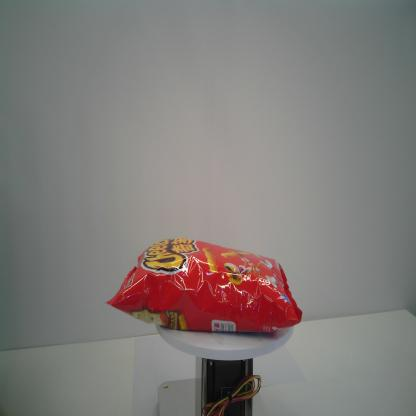Puffed Food: (104, 236, 303, 336)
